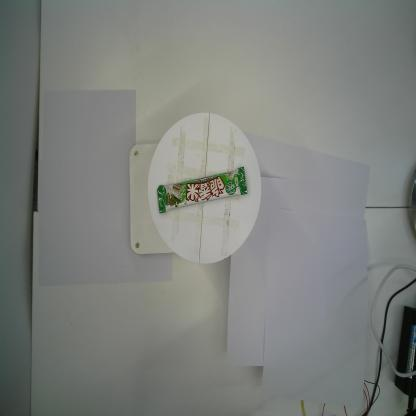Chocolate: (156, 164, 248, 216)
